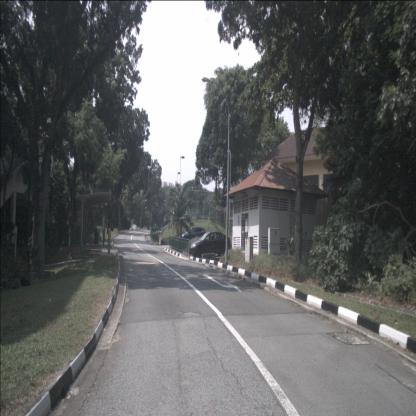vehicle-car: (188, 232, 231, 258), (182, 227, 206, 242)
